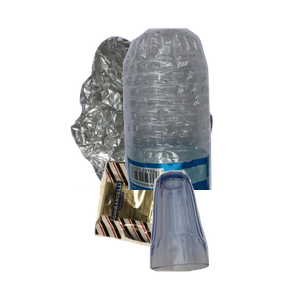glass: (147, 168, 300, 300)
metal: (68, 34, 300, 214)
plastic: (111, 26, 300, 206)
trash: (92, 158, 277, 300)
